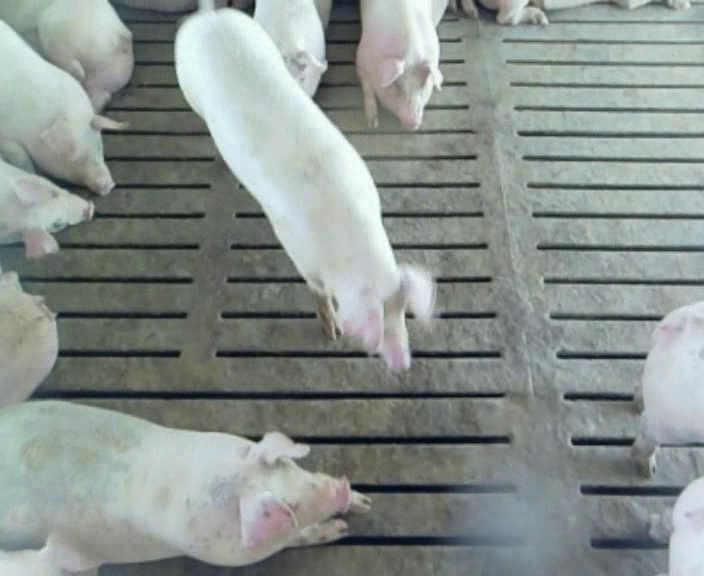pig: (632, 301, 703, 476), (356, 2, 446, 129), (254, 1, 331, 96), (649, 477, 703, 574)
